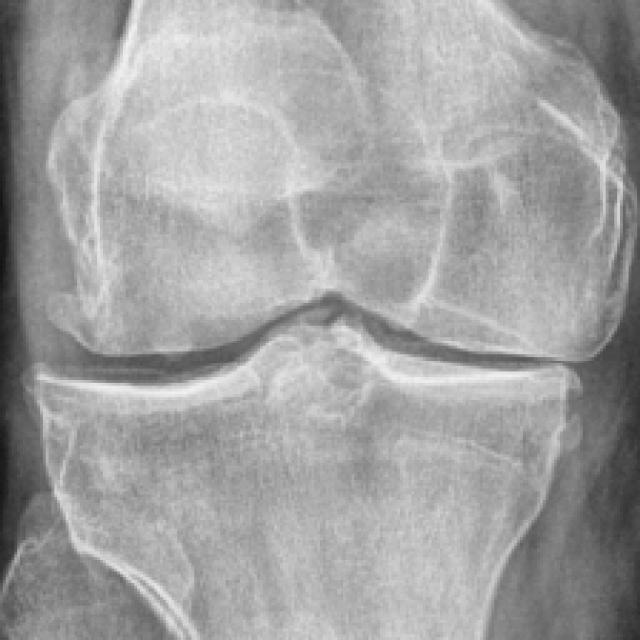femur: (47, 1, 640, 360)
tibia: (33, 326, 570, 640)
